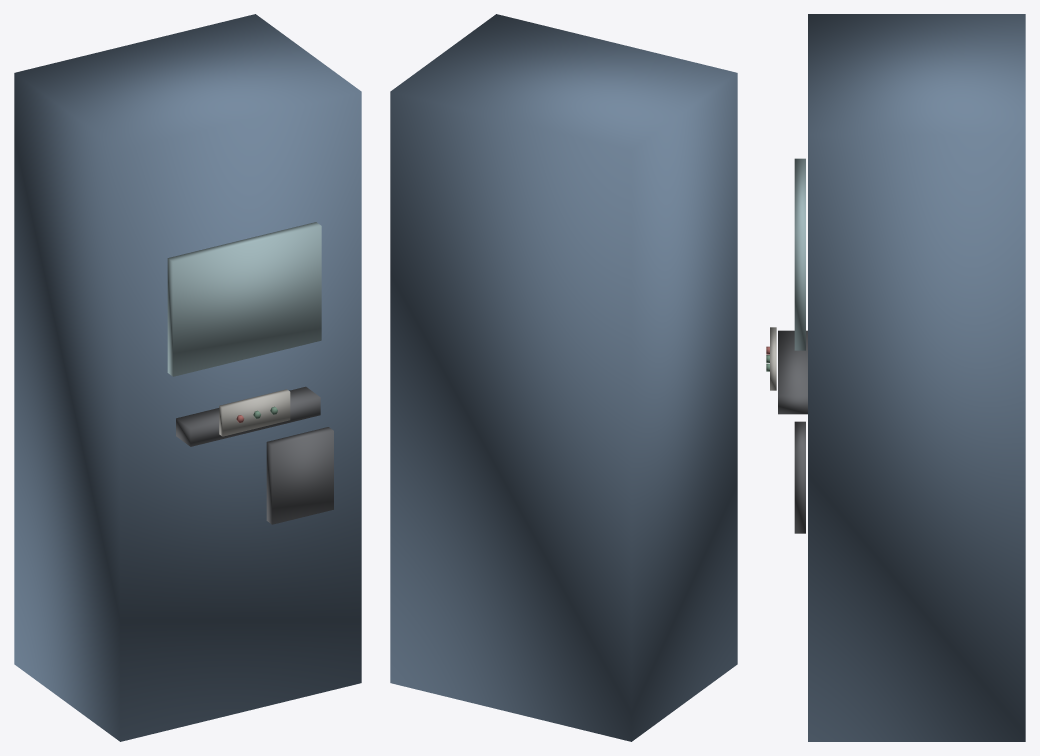
The model's file is atm__compact.glb.
3 renders of one model, left to right at view 1: azimuth 30°, elevation 25°; view 2: azimuth 150°, elevation 25°; view 3: azimuth 270°, elevation 25°, orthographic. The views are drawn at different scales.
Visible parts, largest first — view 1: world; view 2: world; view 3: world.
Boxes of the visible parts, x1=… form: world: x1=14, y1=14, x2=361, y2=741; world: x1=390, y1=14, x2=737, y2=741; world: x1=766, y1=14, x2=1025, y2=741.
Bounding box in the file's own units: 0.6552 × 1.53 × 0.5943.
